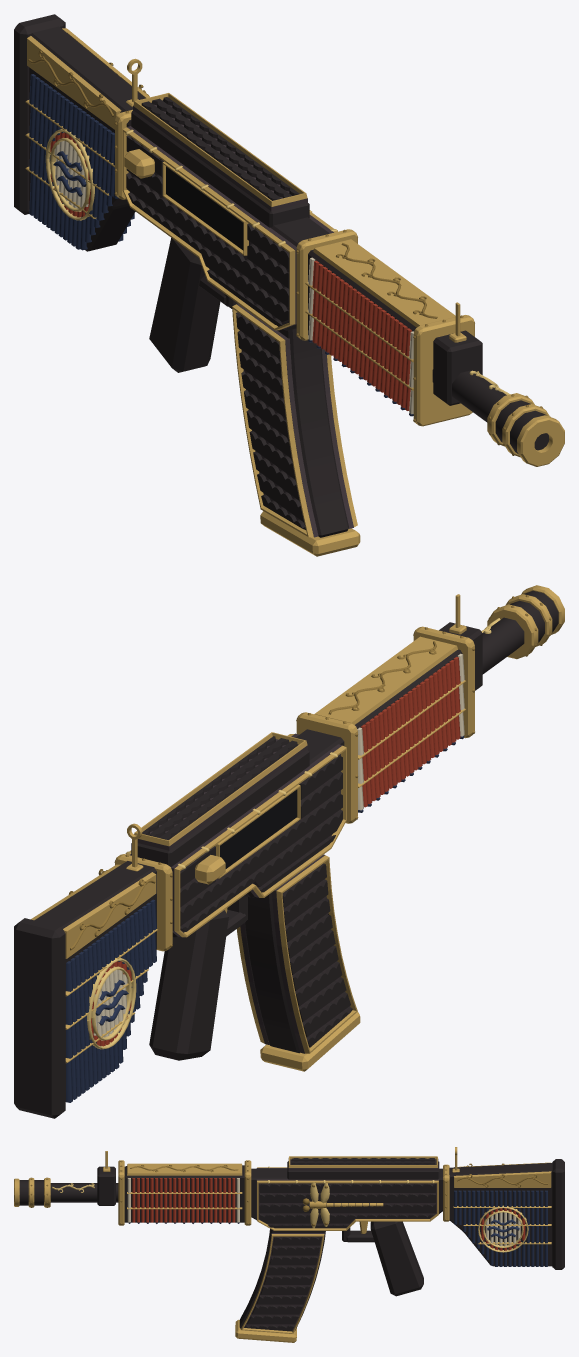
3 views of the same model, one above another, from view 1: azimuth 30°, elevation 25°; view 2: azimuth 150°, elevation 25°; view 3: azimuth 270°, elevation 25° (orthographic). The views are drawn at different scales.
Visible parts, largest first — view 1: body_wzA__lac__p2a2526, guard_wzN__gold__pc4a056, guard_wzA__verm__pa63e2a, stock_wzA__navy__p27324d, mag_wzA__lac__p2a2526, grip_wzB__lac__p2a2526, mag_wzB__lac__p2a2526, body_wzN__gold__pc4a056, mag_wzN__gold__pc4a056, barrel_wzB__lac__p2a2526, stock_wzA__lac__p2a2526, stock_wzN__gold__pc4a056 (+13 smaller); view 2: body_wzA__lac__p2a2526, stock_wzB__lac__p2a2526, grip_wzB__lac__p2a2526, guard_wzN__gold__pc4a056, guard_wzA__verm__pa63e2a, stock_wzA__navy__p27324d, mag_wzA__lac__p2a2526, body_wzN__gold__pc4a056, stock_wzN__gold__pc4a056, mag_wzN__gold__pc4a056, mag_wzB__lac__p2a2526, body_wzB__lac__p2a2526 (+14 smaller); view 3: body_wzA__lac__p2a2526, mag_wzA__lac__p2a2526, stock_wzA__lac__p2a2526, stock_wzA__navy__p27324d, guard_wzA__verm__pa63e2a, grip_wzB__lac__p2a2526, guard_wzN__gold__pc4a056, guard_wzB__lac__p2a2526, body_wzN__gold__pc4a056, body_wzB__lac__p2a2526, body_wzB__lac2__p40363a, stock_wzN__gold__pc4a056 (+14 smaller).
Part boxes in pixels (x1,y1,x2,y2): body_wzA__lac__p2a2526: [126, 97, 299, 326]; guard_wzN__gold__pc4a056: [296, 229, 474, 426]; guard_wzA__verm__pa63e2a: [312, 260, 411, 410]; stock_wzA__navy__p27324d: [29, 74, 135, 250]; mag_wzA__lac__p2a2526: [236, 312, 305, 529]; grip_wzB__lac__p2a2526: [149, 238, 237, 372]; mag_wzB__lac__p2a2526: [277, 328, 348, 537]; body_wzN__gold__pc4a056: [122, 93, 337, 330]; mag_wzN__gold__pc4a056: [232, 304, 360, 556]; barrel_wzB__lac__p2a2526: [432, 330, 548, 454]; stock_wzA__lac__p2a2526: [29, 26, 145, 251]; stock_wzN__gold__pc4a056: [25, 28, 149, 218]; body_wzA__lac__p2a2526: [142, 736, 342, 931]; stock_wzB__lac__p2a2526: [14, 918, 65, 1118]; grip_wzB__lac__p2a2526: [149, 896, 247, 1060]; guard_wzN__gold__pc4a056: [296, 626, 474, 823]; guard_wzA__verm__pa63e2a: [361, 656, 460, 807]; stock_wzA__navy__p27324d: [66, 899, 156, 1102]; mag_wzA__lac__p2a2526: [282, 863, 352, 1047]; body_wzN__gold__pc4a056: [126, 732, 346, 937]; stock_wzN__gold__pc4a056: [31, 854, 172, 1063]; mag_wzN__gold__pc4a056: [236, 855, 360, 1071]; mag_wzB__lac__p2a2526: [244, 892, 300, 1053]; body_wzB__lac__p2a2526: [131, 729, 344, 937]; body_wzA__lac__p2a2526: [259, 1158, 435, 1227]; mag_wzA__lac__p2a2526: [245, 1236, 321, 1331]; stock_wzA__lac__p2a2526: [449, 1163, 552, 1266]; stock_wzA__navy__p27324d: [454, 1190, 547, 1266]; guard_wzA__verm__pa63e2a: [132, 1178, 235, 1222]; grip_wzB__lac__p2a2526: [342, 1221, 423, 1296]; guard_wzN__gold__pc4a056: [118, 1160, 251, 1225]; guard_wzB__lac__p2a2526: [124, 1165, 244, 1222]; body_wzN__gold__pc4a056: [257, 1156, 438, 1230]; body_wzB__lac__p2a2526: [251, 1161, 442, 1219]; body_wzB__lac2__p40363a: [256, 1159, 438, 1228]; stock_wzN__gold__pc4a056: [443, 1162, 551, 1244].
Bounding box in the file's own units: 0.1034 × 0.4529 × 1.19.
